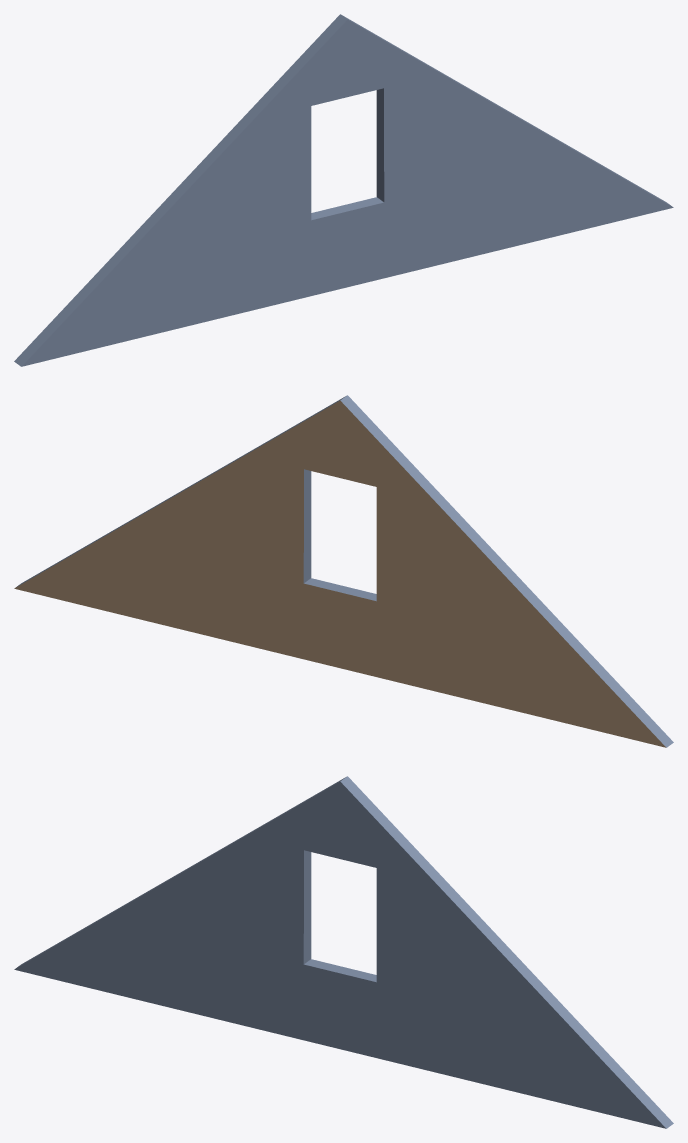
Rendered from Wall2_C3_19.fbx.
3 renders of one model, top to bottom at view 1: azimuth 30°, elevation 25°; view 2: azimuth 150°, elevation 25°; view 3: azimuth 330°, elevation 25°, orthographic.
Visible parts, largest first — view 1: Wall2_C3_19; view 2: Wall2_C3_19; view 3: Wall2_C3_19.
Part boxes in pixels (bbox=[...]): Wall2_C3_19: bbox=[14, 14, 673, 366]; Wall2_C3_19: bbox=[14, 395, 673, 747]; Wall2_C3_19: bbox=[14, 776, 673, 1128].
Size of the model in its own units: 765 by 300 by 15.
